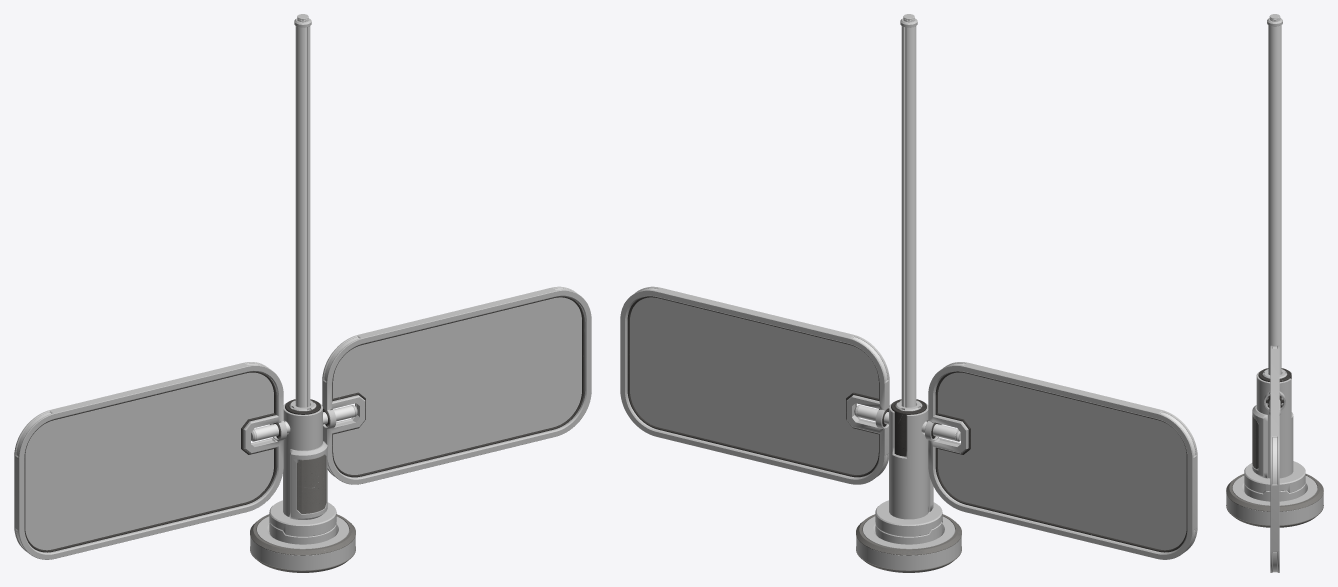
Rendered from KB3D_MTM_PropSolarPanel_A.fbx.
The picture shows the model from 3 angles, left to right: view 1: azimuth 30°, elevation 25°; view 2: azimuth 150°, elevation 25°; view 3: azimuth 270°, elevation 25°; orthographic projection. The views are drawn at different scales.
Parts seen in each view (by area): view 1: KB3D_MTM_PropSolarPanel_A_Panels, KB3D_MTM_PropSolarPanel_A_Post; view 2: KB3D_MTM_PropSolarPanel_A_Panels, KB3D_MTM_PropSolarPanel_A_Post; view 3: KB3D_MTM_PropSolarPanel_A_Post, KB3D_MTM_PropSolarPanel_A_Panels.
Boxes of the visible parts, x1=… form: KB3D_MTM_PropSolarPanel_A_Panels: x1=14, y1=286, x2=591, y2=559; KB3D_MTM_PropSolarPanel_A_Post: x1=250, y1=14, x2=357, y2=572; KB3D_MTM_PropSolarPanel_A_Panels: x1=620, y1=286, x2=1197, y2=559; KB3D_MTM_PropSolarPanel_A_Post: x1=854, y1=14, x2=961, y2=572; KB3D_MTM_PropSolarPanel_A_Post: x1=1226, y1=14, x2=1323, y2=527; KB3D_MTM_PropSolarPanel_A_Panels: x1=1264, y1=345, x2=1285, y2=572.
Size of the model in its own units: 656 by 586 by 105.
